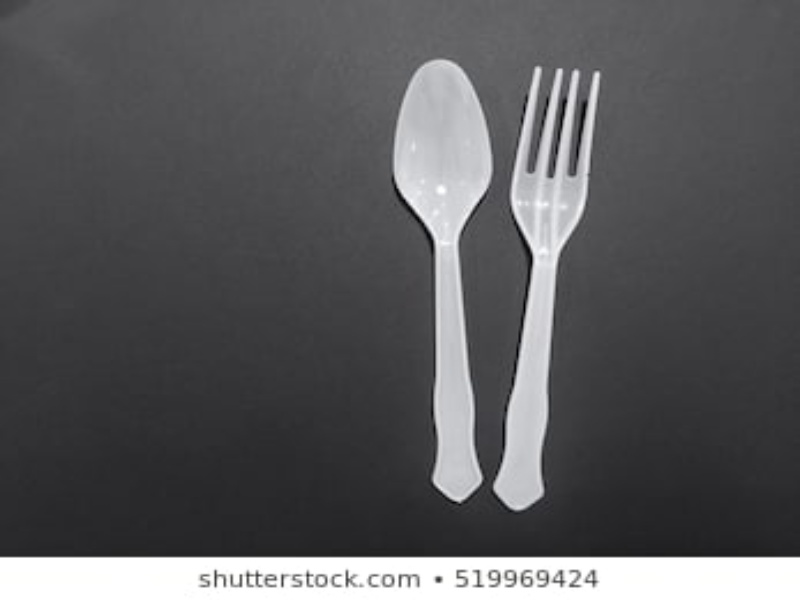plastic-silverware: (490, 65, 607, 517), (385, 54, 499, 509)
